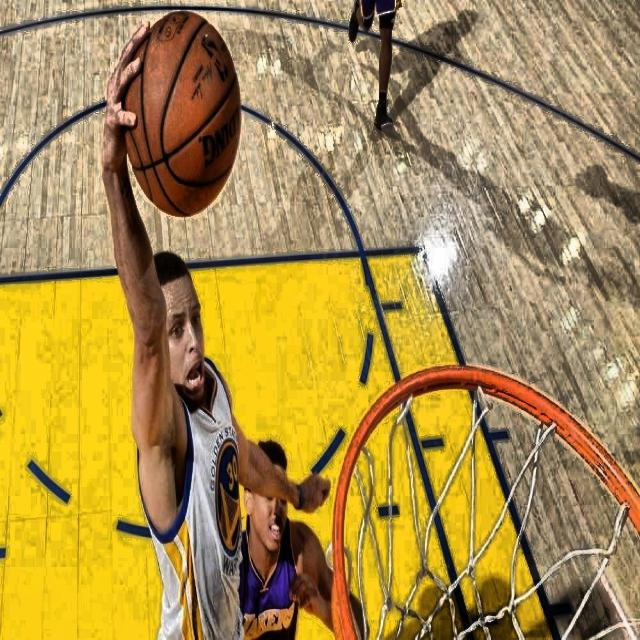board: (123, 11, 242, 218)
